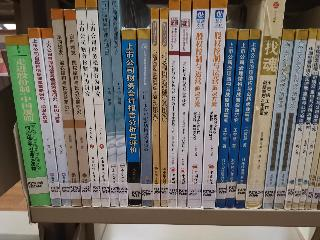book-spine: (242, 0, 287, 210), (4, 33, 52, 209), (270, 28, 309, 210), (282, 28, 318, 211), (49, 8, 82, 207), (198, 0, 228, 209), (28, 27, 62, 207), (262, 29, 295, 209), (64, 9, 93, 208), (41, 27, 73, 207), (75, 0, 101, 208), (85, 0, 111, 207), (291, 31, 320, 211), (186, 0, 210, 208), (234, 28, 261, 210), (98, 1, 120, 207), (214, 29, 238, 208), (225, 29, 249, 208), (174, 0, 194, 207), (108, 1, 128, 207), (121, 27, 141, 207), (166, 1, 181, 207), (137, 28, 153, 206), (157, 9, 170, 209), (150, 8, 162, 207)
